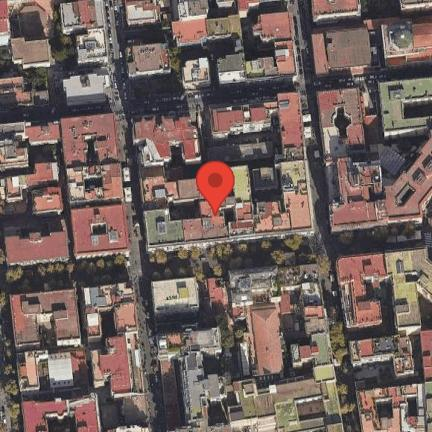built: (155, 268, 341, 430), (12, 285, 147, 431), (315, 79, 430, 235), (7, 118, 126, 262), (339, 250, 430, 430), (209, 101, 310, 240), (2, 3, 106, 108), (171, 2, 297, 85), (135, 116, 212, 245), (310, 18, 431, 77), (126, 45, 165, 78), (312, 2, 367, 24), (62, 78, 105, 102), (124, 1, 161, 25), (401, 2, 431, 16)
vegetation_high: (153, 237, 313, 278), (6, 256, 128, 293), (338, 226, 425, 253), (3, 297, 20, 430), (325, 266, 349, 352)
